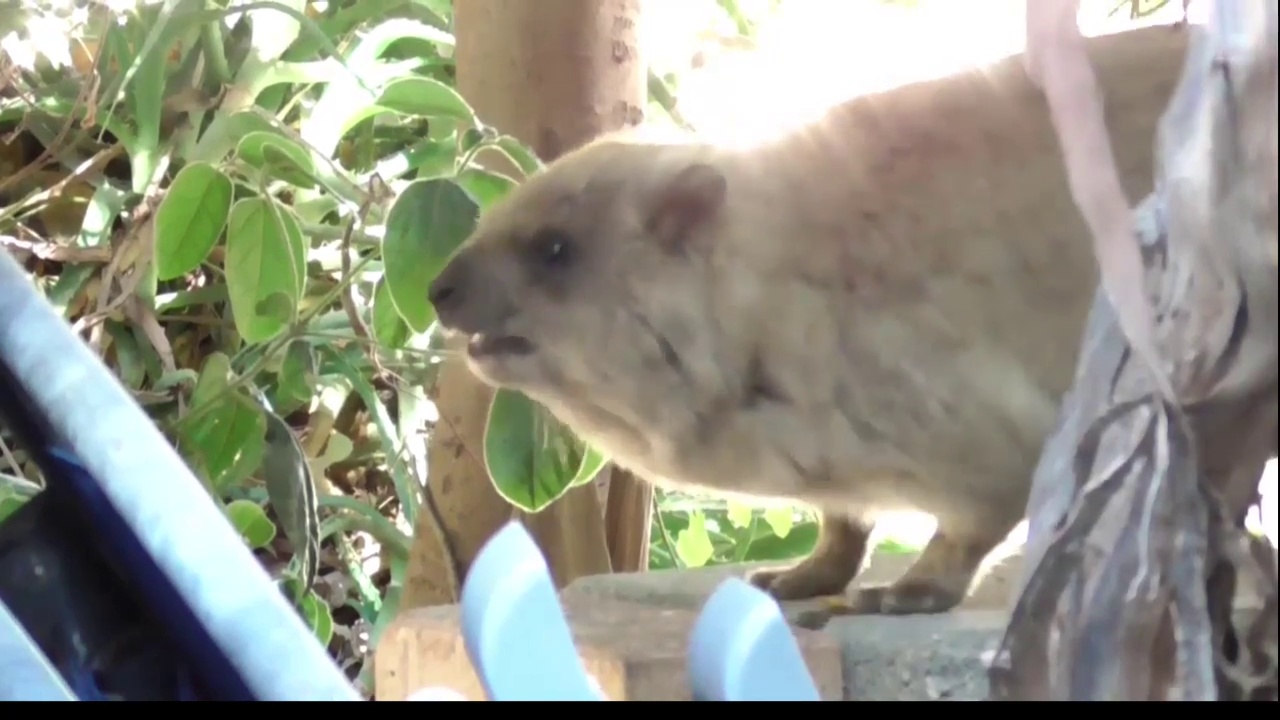Rock Hyrex: (431, 25, 1280, 614)
